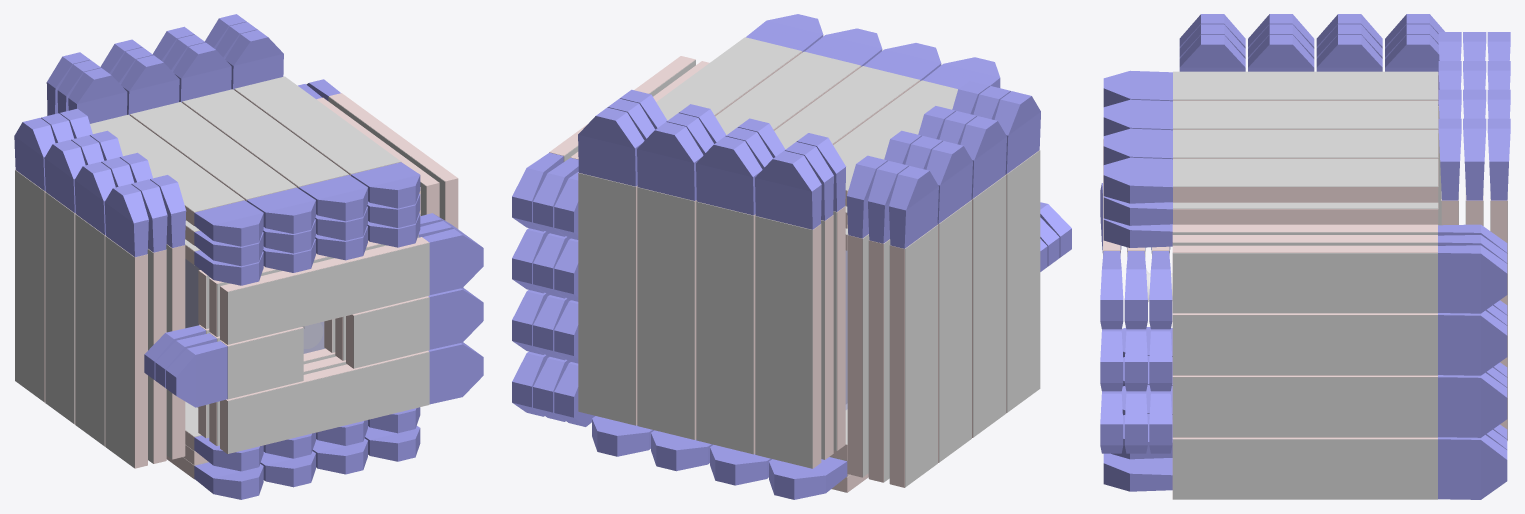
The model's file is BabyIAXO.gltf.
3 renders of one model, left to right at view 1: azimuth 30°, elevation 25°; view 2: azimuth 150°, elevation 25°; view 3: azimuth 270°, elevation 25°, orthographic. The views are drawn at different scales.
Size of the model in its own units: 129 by 118 by 124.
